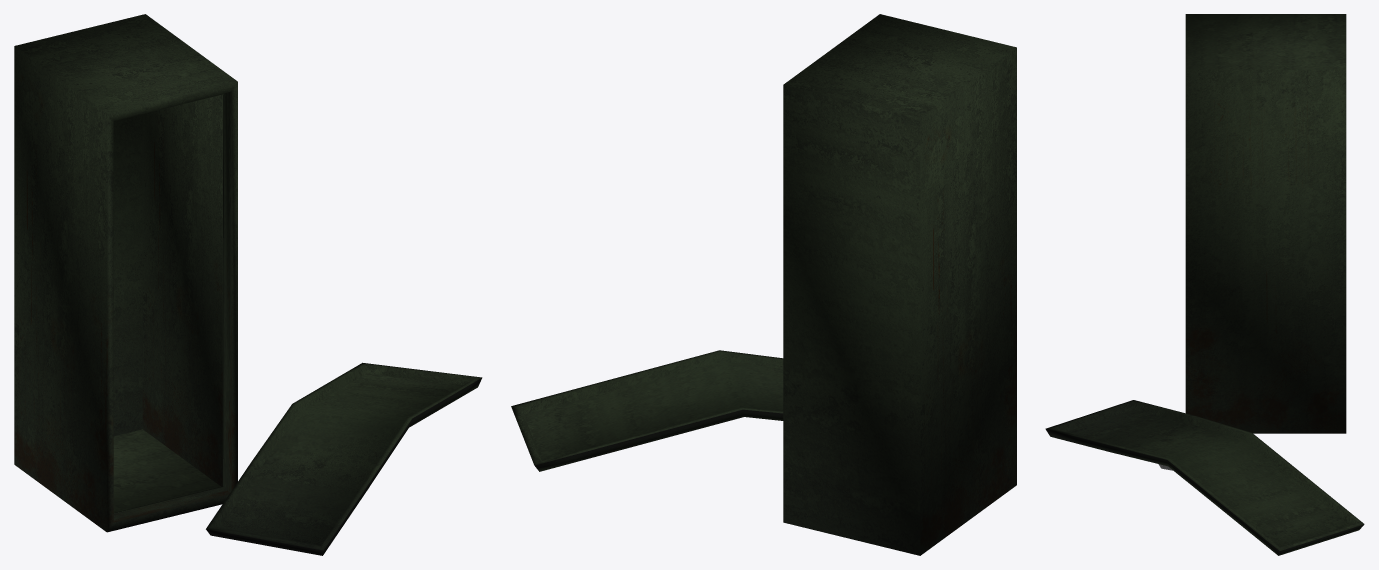
Rendered from Lockers_DoorLess.fbx.
3 renders of one model, left to right at view 1: azimuth 30°, elevation 25°; view 2: azimuth 150°, elevation 25°; view 3: azimuth 270°, elevation 25°, orthographic. The views are drawn at different scales.
Parts seen in each view (by area): view 1: Cube; view 2: Cube; view 3: Cube.
Part boxes in pixels (x1=…): Cube: x1=14, y1=14, x2=482, y2=555; Cube: x1=511, y1=14, x2=1016, y2=555; Cube: x1=1045, y1=14, x2=1364, y2=555.
Bounding box in the file's own units: 11.03 × 10.3 × 8.17.
